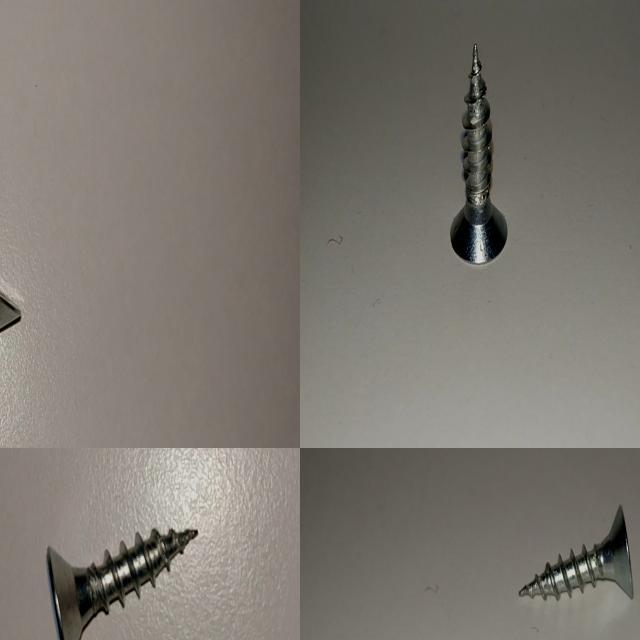Screw: (46, 528, 198, 640), (450, 42, 508, 263), (519, 504, 634, 600)
